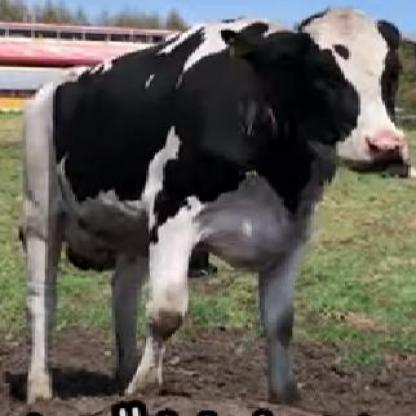cow: (22, 10, 410, 403)
